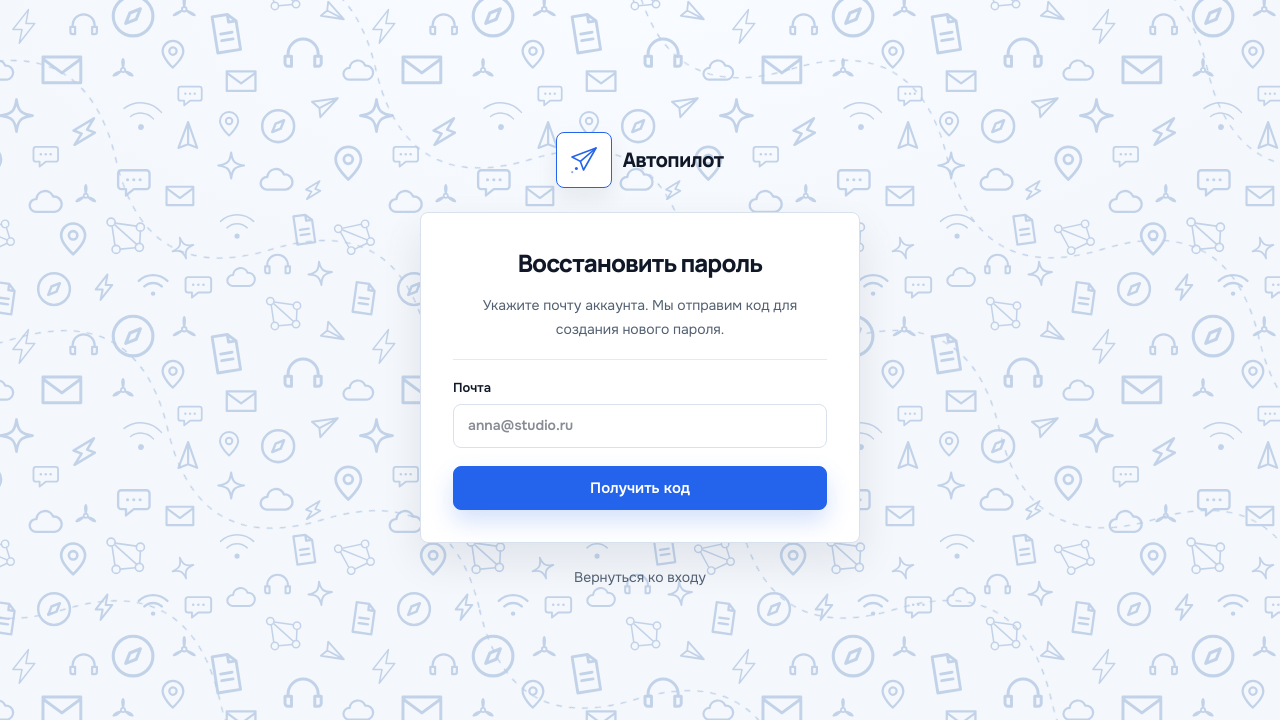
Scenario: password reset pages › requests reset without revealing whether the email exists
In the field labelled "Почта": {"x": 640, "y": 426} [453,404,827,448], type "user@example.com"
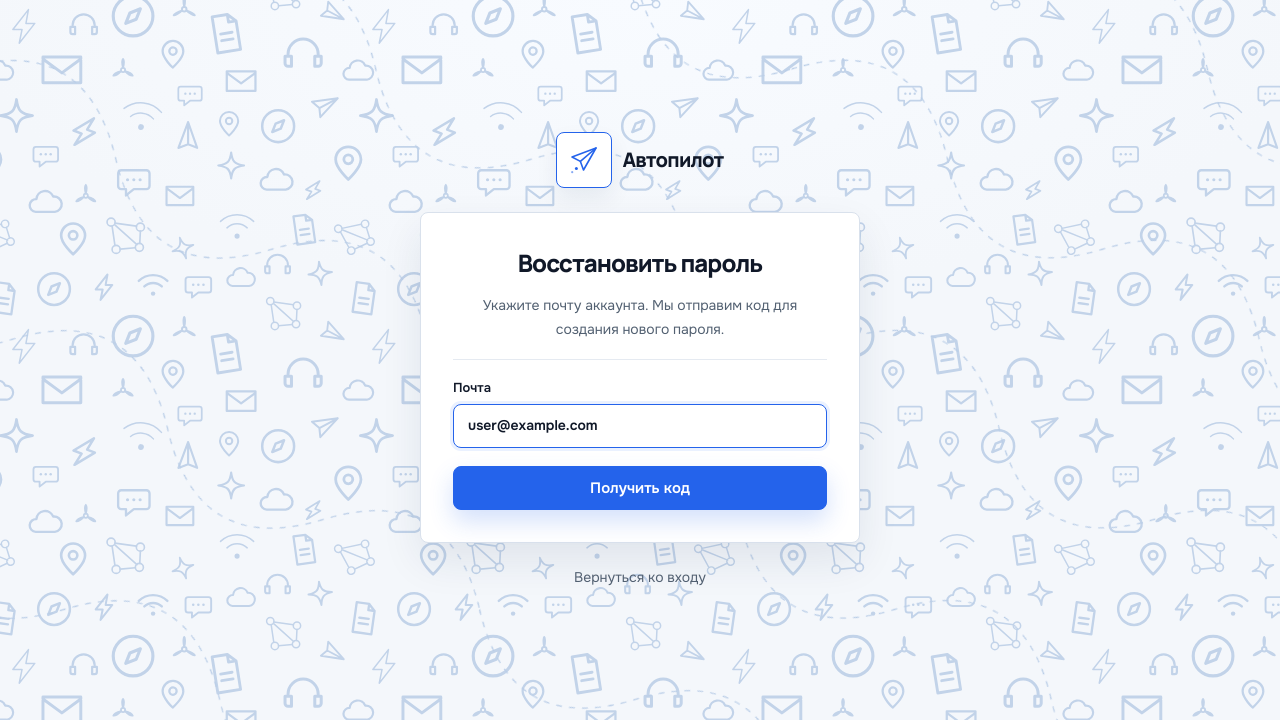
Click the button "Получить код": {"x": 640, "y": 488} [453,466,827,510]
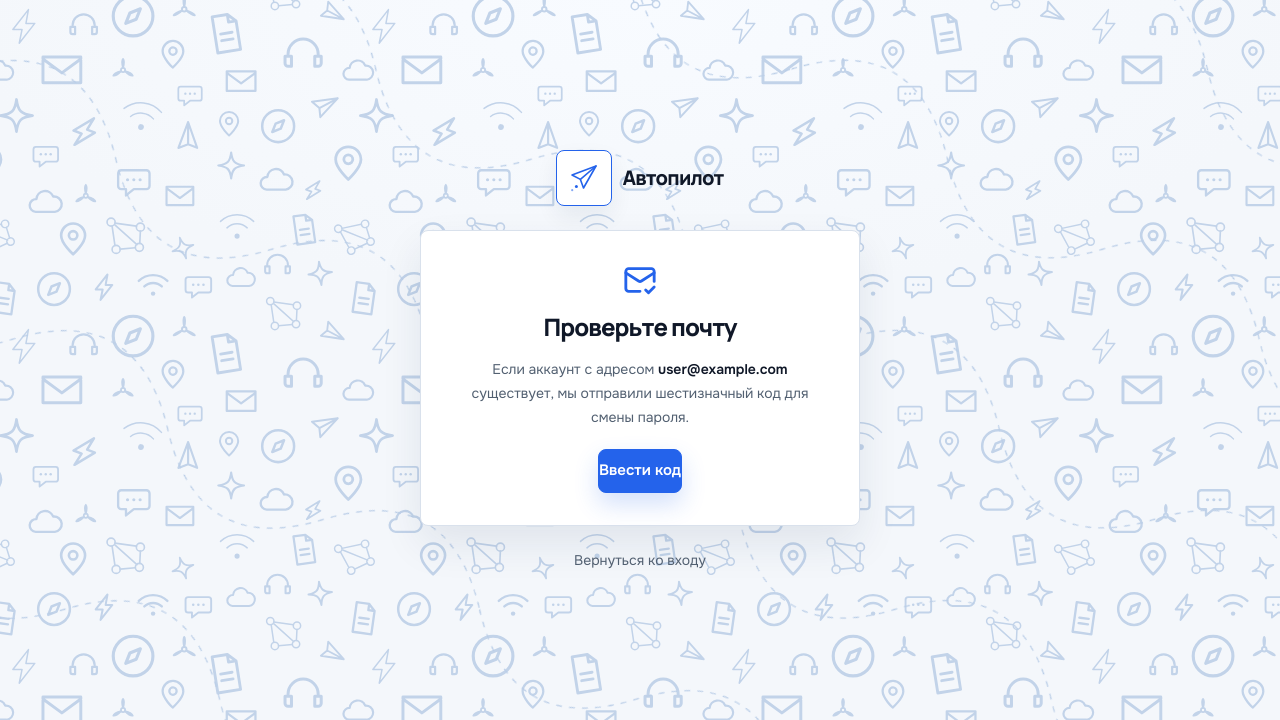
Check: the message shows "Если аккаунт", box [492,360,658,378]
